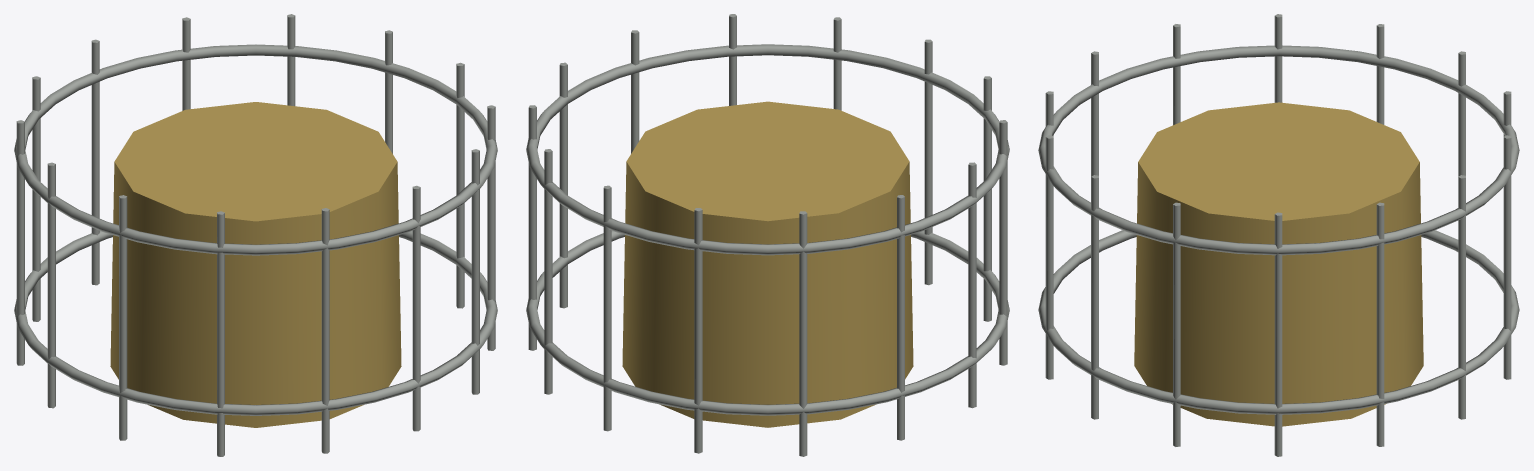
The model's file is toaster_bale_feeder.glb.
The picture shows the model from 3 angles, left to right: view 1: azimuth 30°, elevation 25°; view 2: azimuth 150°, elevation 25°; view 3: azimuth 270°, elevation 25°; orthographic projection.
Parts seen in each view (by area): view 1: toaster_bale_feeder_bale, toaster_bale_feeder_ring; view 2: toaster_bale_feeder_bale, toaster_bale_feeder_ring; view 3: toaster_bale_feeder_bale, toaster_bale_feeder_ring.
Boxes of the visible parts, <box> form: toaster_bale_feeder_bale: <box>110,102,401,427</box>; toaster_bale_feeder_ring: <box>14,14,497,456</box>; toaster_bale_feeder_bale: <box>622,101,913,427</box>; toaster_bale_feeder_ring: <box>526,14,1009,456</box>; toaster_bale_feeder_bale: <box>1134,102,1423,426</box>; toaster_bale_feeder_ring: <box>1038,14,1519,456</box>.
Size of the model in its own units: 2.46 by 1.41 by 2.46.
